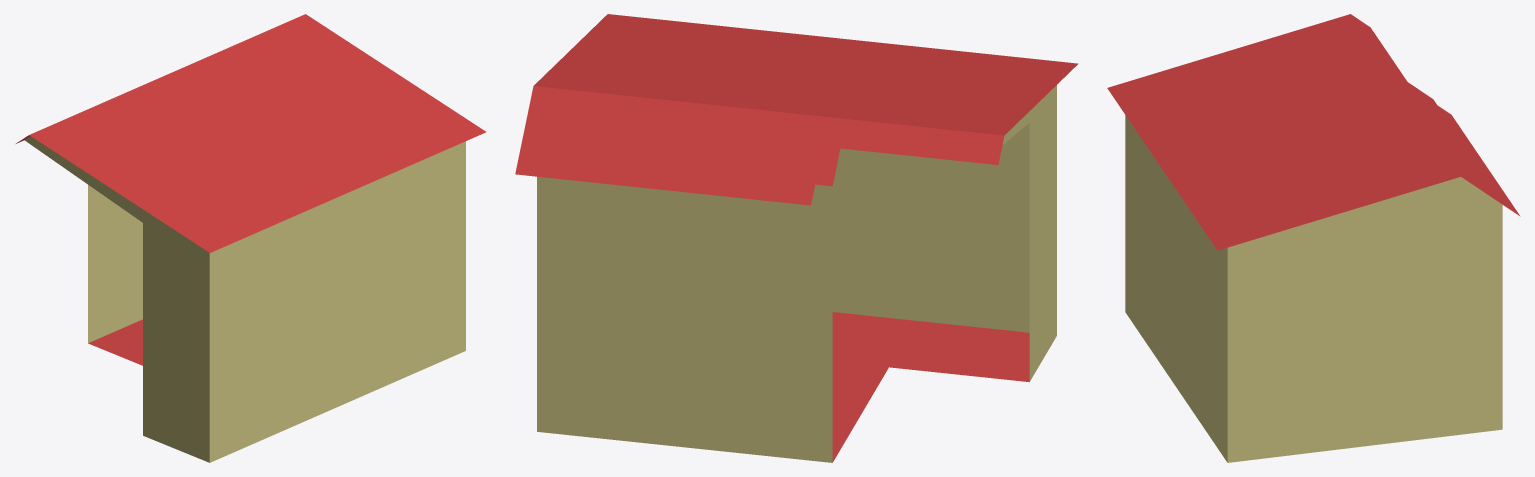
3 views of the same model, side by side, from view 1: azimuth 30°, elevation 25°; view 2: azimuth 150°, elevation 25°; view 3: azimuth 270°, elevation 25° (orthographic). The views are drawn at different scales.
Bounding box in the file's own units: 15.58 × 13.99 × 9.87.
